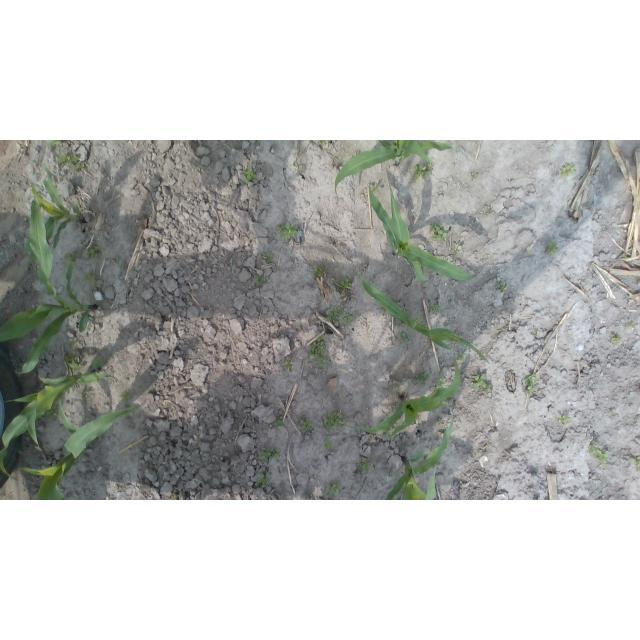Maize: (1, 370, 115, 482), (356, 272, 491, 365), (14, 401, 142, 499), (1, 257, 100, 375), (367, 180, 479, 284), (348, 357, 464, 439), (21, 161, 87, 300), (333, 140, 469, 197), (383, 415, 458, 500)
Weeds: (62, 330, 96, 373), (310, 340, 331, 368), (56, 155, 84, 175), (325, 307, 351, 325), (589, 442, 612, 462), (322, 411, 343, 431), (428, 225, 447, 243), (280, 225, 301, 241), (258, 448, 281, 462), (523, 372, 537, 395), (412, 165, 432, 179), (243, 169, 258, 185), (559, 164, 575, 177), (298, 419, 312, 433), (474, 375, 487, 390), (358, 461, 372, 474), (255, 475, 271, 486), (86, 248, 100, 260), (85, 272, 97, 286), (251, 275, 265, 286), (327, 485, 341, 496), (546, 244, 559, 254), (416, 371, 429, 381), (340, 280, 356, 288), (44, 141, 62, 148), (402, 331, 411, 344), (313, 267, 323, 278), (452, 241, 462, 251), (437, 378, 448, 387), (559, 417, 568, 428), (627, 322, 638, 331), (499, 283, 508, 294), (318, 140, 330, 148), (263, 254, 274, 262), (334, 157, 343, 166), (285, 363, 294, 371), (612, 336, 620, 345), (275, 421, 284, 428), (434, 305, 441, 312), (326, 444, 333, 450), (472, 175, 477, 182), (637, 457, 640, 466)
